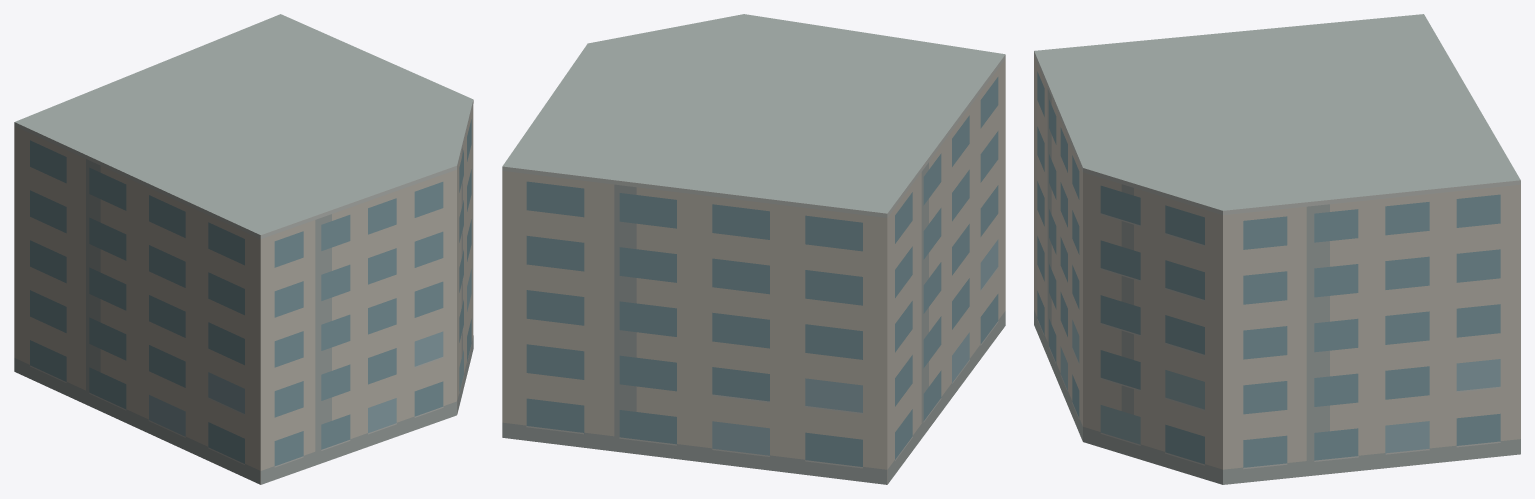
File: survey-upis-32697227.glb
The picture shows the model from 3 angles, left to right: view 1: azimuth 30°, elevation 25°; view 2: azimuth 150°, elevation 25°; view 3: azimuth 270°, elevation 25°; orthographic projection. The views are drawn at different scales.
Visible parts, largest first — view 1: survey-upis-32697227.tmp; view 2: survey-upis-32697227.tmp; view 3: survey-upis-32697227.tmp.
Boxes of the visible parts, x1,y1,x2,y2 form: survey-upis-32697227.tmp: (14,14,473,484); survey-upis-32697227.tmp: (502,14,1005,484); survey-upis-32697227.tmp: (1034,14,1520,484).
Size of the model in its own units: 23.5 by 15.25 by 24.56.
